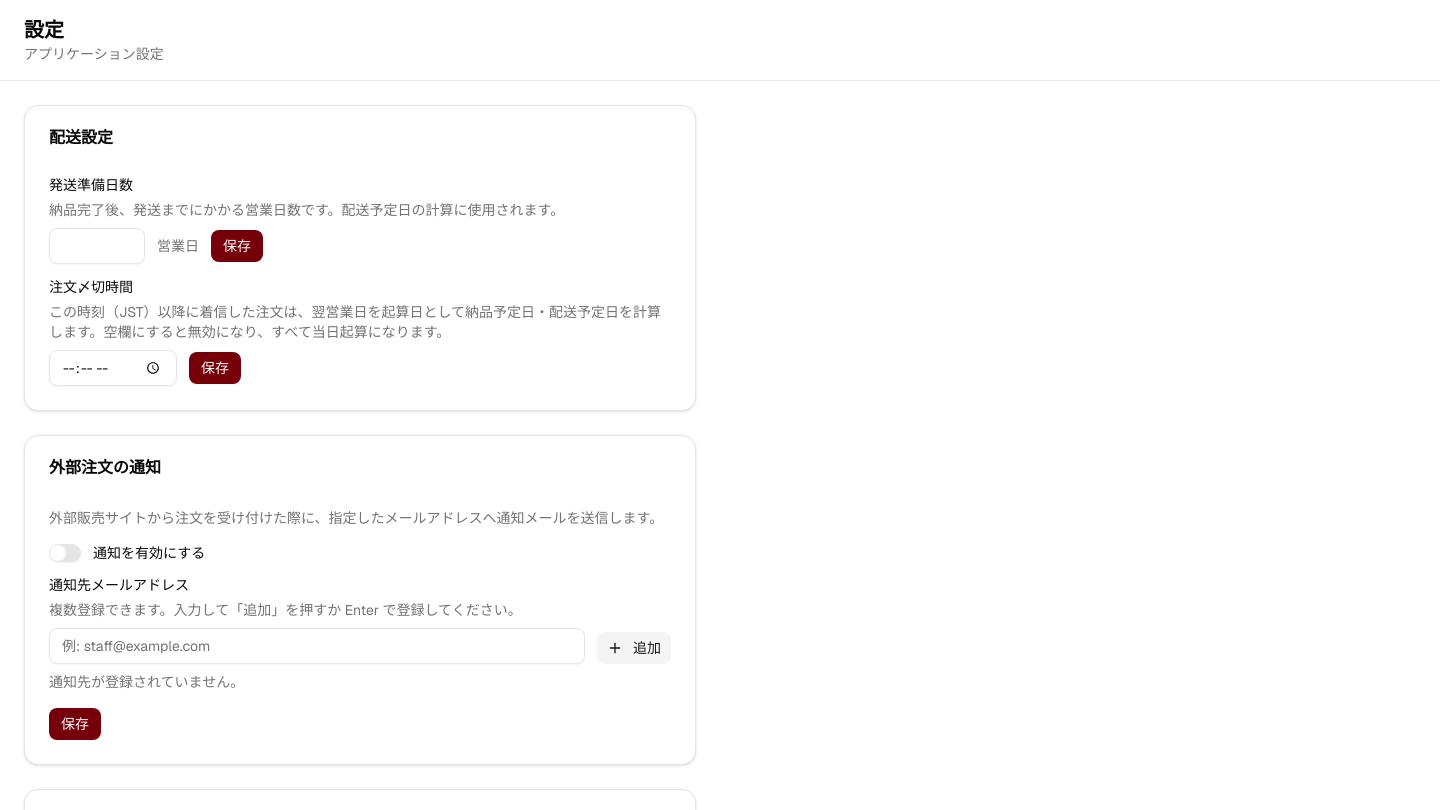
Test: SettingsPage - 注文〆切時間 › API が 422 を返すとエラーメッセージを表示する
This screenshot has width=1440, height=810.
Type "18:00" into the time field labelled "注文〆切時間" at (113, 368), box [49,350,177,386]
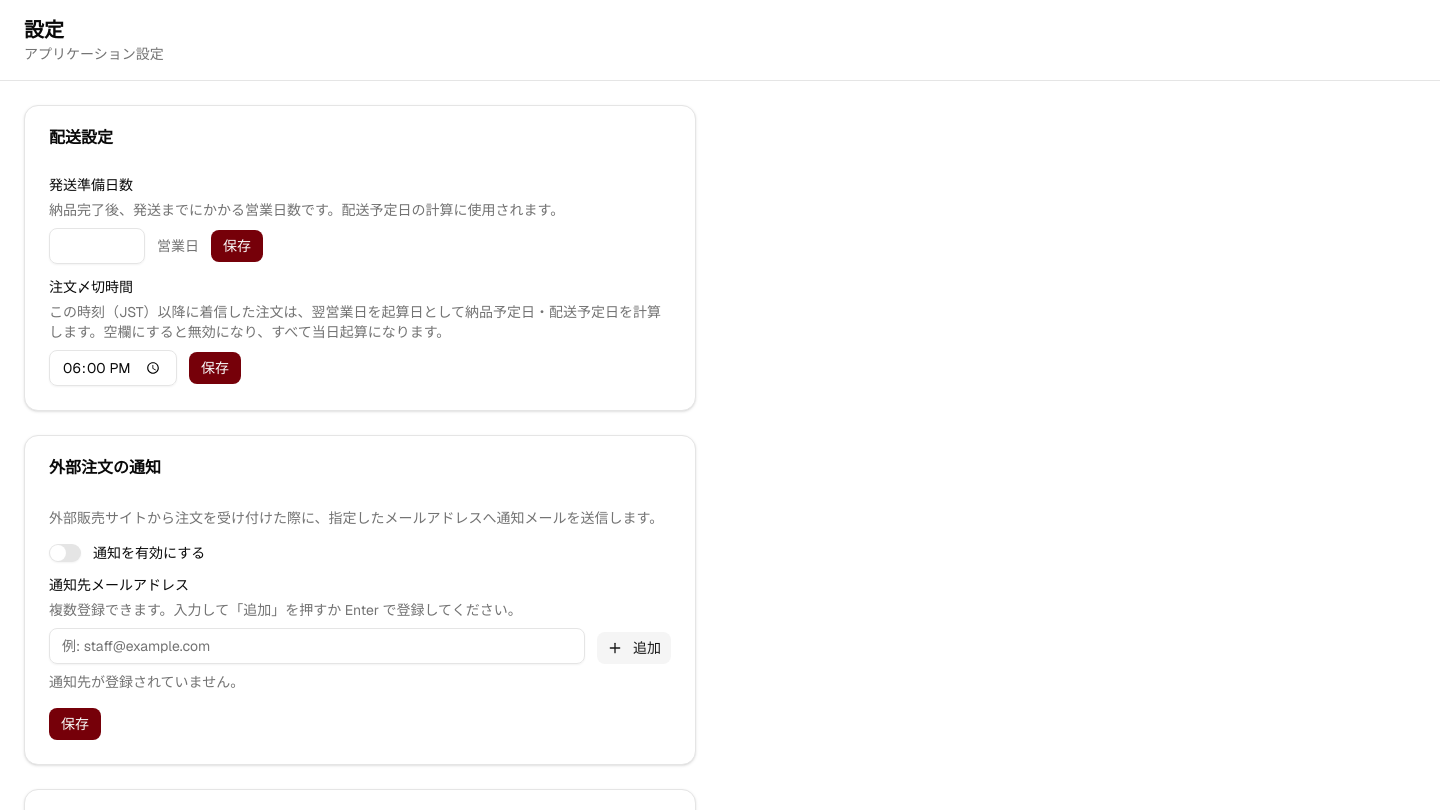
Click the button "保存" below "注文〆切時間" at (215, 368), box [189,352,241,384]
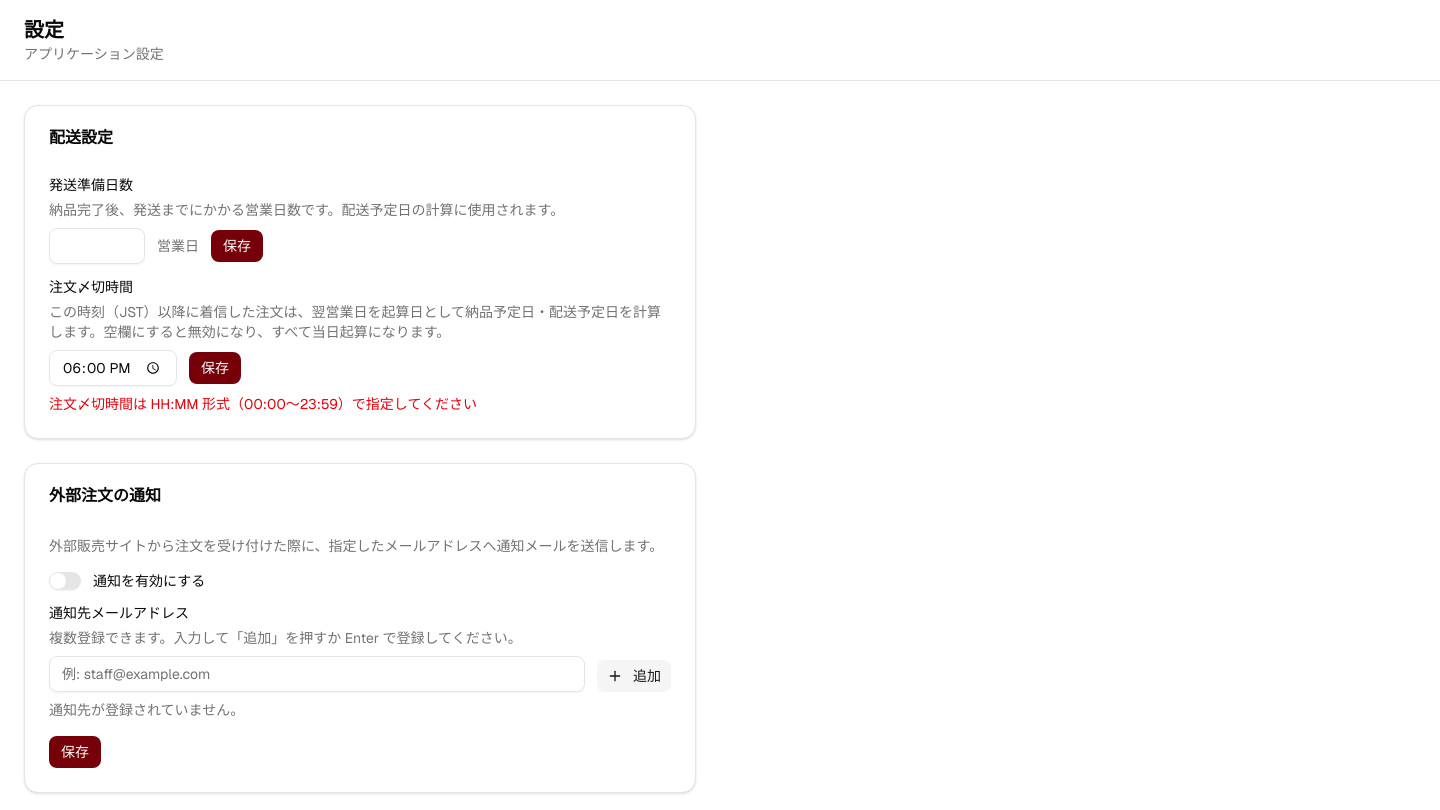
Check: the text "注文〆切時間は HH:MM 形式（00:00〜23:59）で指定してください" is shown, box [49,395,477,413]
